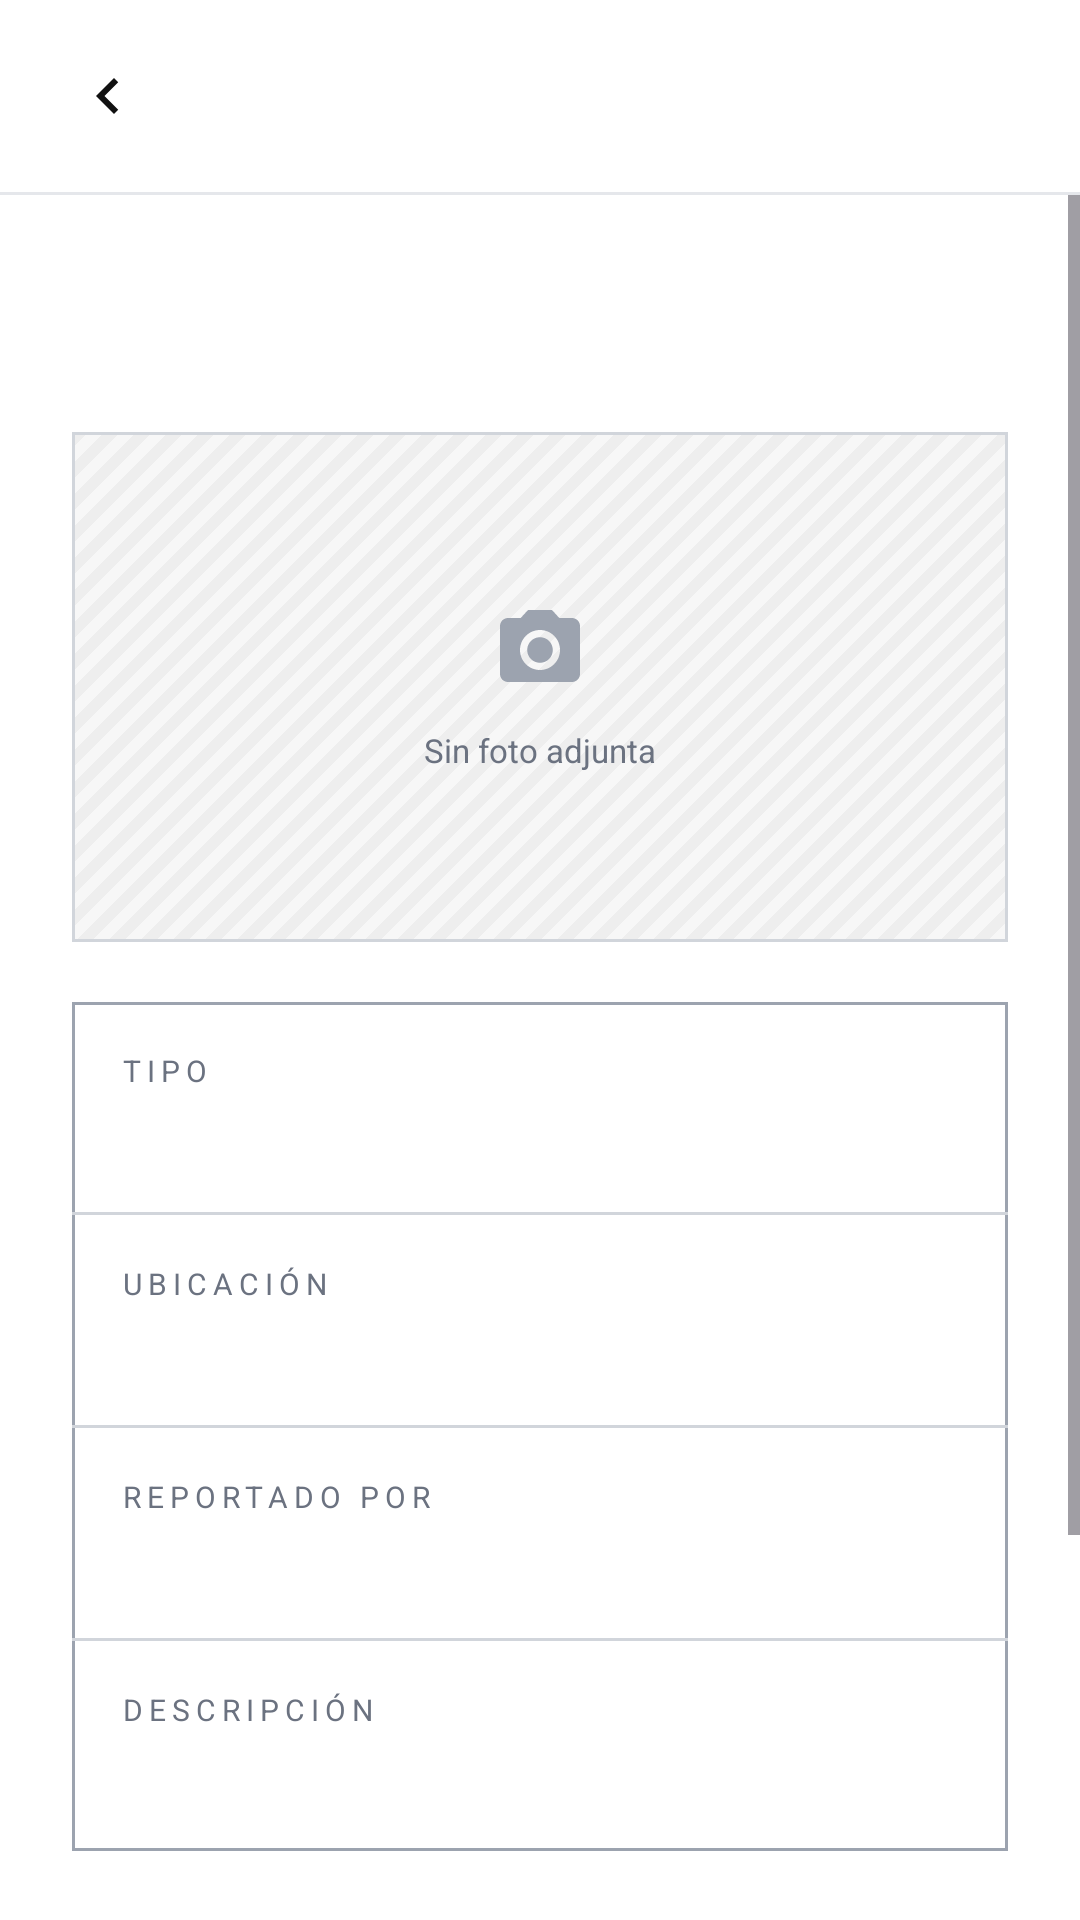

Icons on this 1080 × 1920 Android screen, each with the point to tap as point (x, y):
camera: point (540, 646)
Regresar: point (107, 96)
